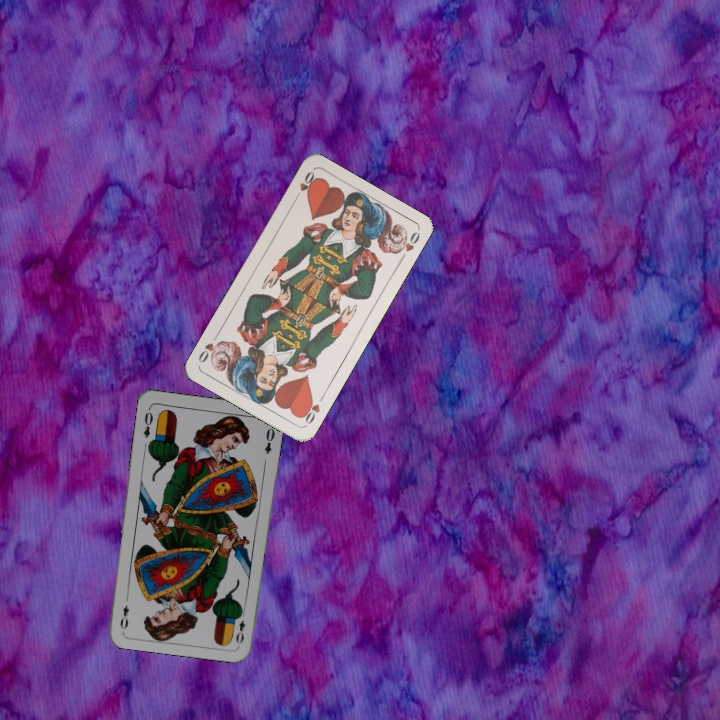EO: (232, 607, 248, 647), (139, 404, 155, 440)
HO: (298, 391, 327, 428), (290, 167, 318, 204)
